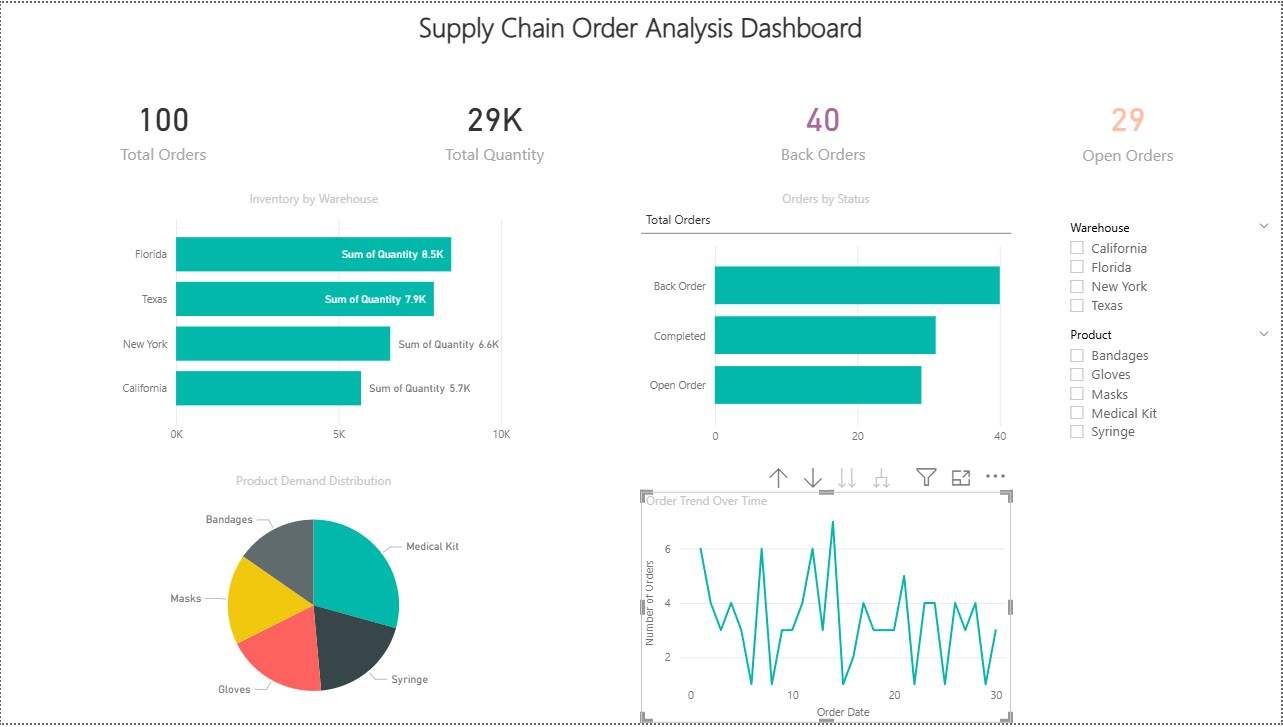

What the dashboard file says about the page in this screenshot:
{"tool":"powerbi","page":{"name":"Page 1","canvas":[1280,720],"ordinal":0},"visuals":[{"type":"clusteredBarChart","title":"Orders by Status","fields":{"Category":["Orders.Order_Status"],"Y":["CountNonNull(Orders.Order_ID)"]},"box":[640,187.1,370,261.4],"z":0},{"type":"clusteredBarChart","title":"Inventory by Warehouse","fields":{"Category":["Orders.Warehouse"],"Y":["Sum(Orders.Quantity)"]},"box":[111.4,187.1,402.9,261.4],"z":1000},{"type":"pieChart","title":"Product Demand Distribution","fields":{"Category":["Orders.Product"],"Y":["Sum(Orders.Quantity)"]},"box":[111.4,468.6,402.9,251.4],"z":2000},{"type":"card","fields":{"Values":["CountNonNull(Orders.Order_ID)"]},"box":[37.1,62.9,250,124.3],"z":3000},{"type":"card","fields":{"Values":["Sum(Orders.Quantity)"]},"box":[382.9,62.9,222.9,124.3],"z":4000},{"type":"textbox","box":[402.9,0,474.3,52.9],"z":5000},{"type":"card","fields":{"Values":["Orders.Back Orders"]},"box":[684.3,62.9,277.1,124.3],"z":6000},{"type":"card","fields":{"Values":["Orders.Open Orders"]},"box":[1010,80,234.3,90],"z":7000},{"type":"slicer","fields":{"Values":["Orders.Warehouse"]},"box":[1055.7,211.4,224.3,107.1],"z":7001},{"type":"lineChart","title":"Order Trend Over Time","fields":{"Category":["Orders.Order_Date.Variation.Date Hierarchy.Year","Orders.Order_Date.Variation.Date Hierarchy.Quarter","Orders.Order_Date.Variation.Date Hierarchy.Month","Orders.Order_Date.Variation.Date Hierarchy.Day"],"Y":["CountNonNull(Orders.Order_ID)"]},"box":[640,488.6,370,231.4],"z":7002},{"type":"slicer","fields":{"Values":["Orders.Product"]},"box":[1055.7,318.6,224.3,130],"z":7003}]}

Visuals, with their boxes in screenshot pixels (x1, y1, x2, y2), scaled from the page's 1280x720 canvas onto the 1283x727 screenshot:
"Orders by Status" clusteredBarChart: bbox=[642, 189, 1012, 453]
"Inventory by Warehouse" clusteredBarChart: bbox=[112, 189, 516, 453]
"Product Demand Distribution" pieChart: bbox=[112, 473, 516, 726]
card - CountNonNull(Orders.Order_ID): bbox=[37, 64, 288, 189]
card - Sum(Orders.Quantity): bbox=[384, 64, 607, 189]
textbox: bbox=[404, 0, 879, 53]
card - Orders.Back Orders: bbox=[686, 64, 964, 189]
card - Orders.Open Orders: bbox=[1012, 81, 1247, 172]
slicer - Orders.Warehouse: bbox=[1058, 213, 1282, 322]
"Order Trend Over Time" lineChart: bbox=[642, 493, 1012, 726]
slicer - Orders.Product: bbox=[1058, 322, 1282, 453]
